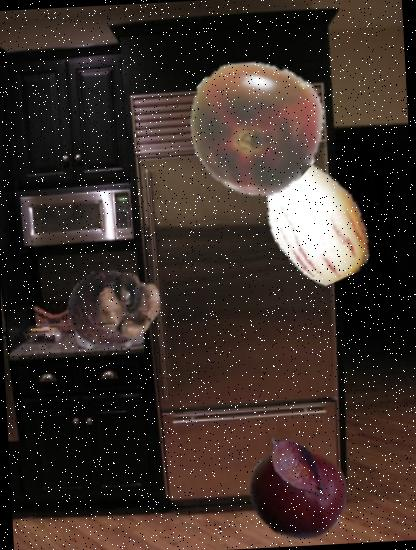Mango: (246, 440, 351, 545)
Mangostan: (64, 258, 166, 360)
Pepino: (244, 146, 386, 288)
Salak: (258, 427, 334, 503)
Tomato: (183, 52, 328, 197)
